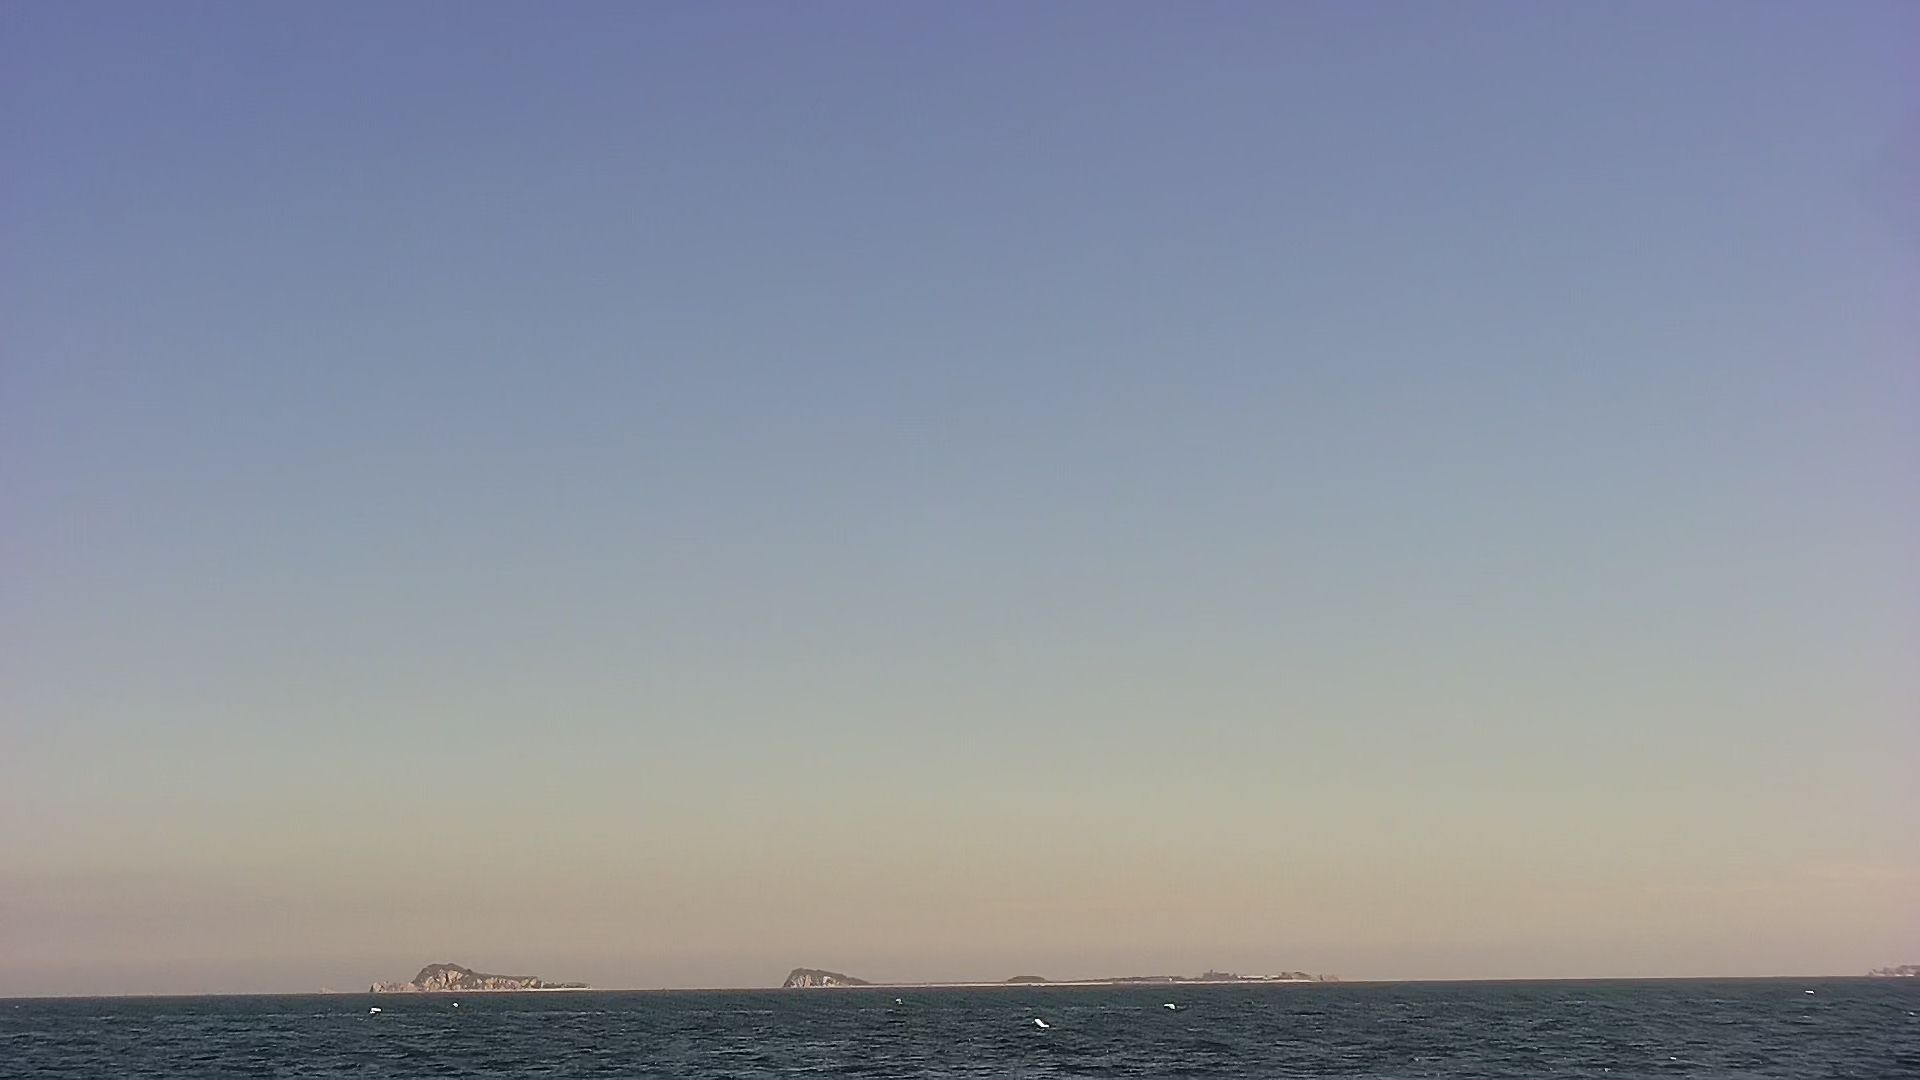rock: (377, 959, 580, 992), (1114, 963, 1342, 978), (771, 964, 887, 986), (992, 965, 1055, 981)
rubbish: (1030, 1011, 1068, 1030), (1158, 992, 1185, 1010), (365, 1004, 388, 1015)
